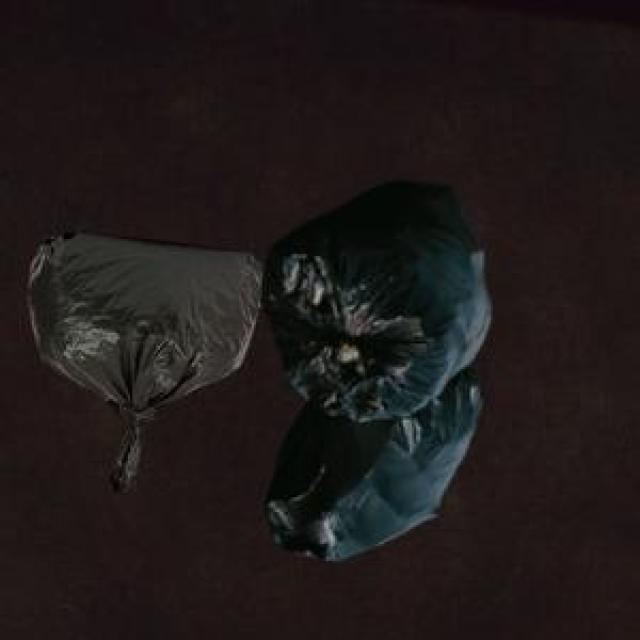Vinyl: (29, 182, 491, 559)
